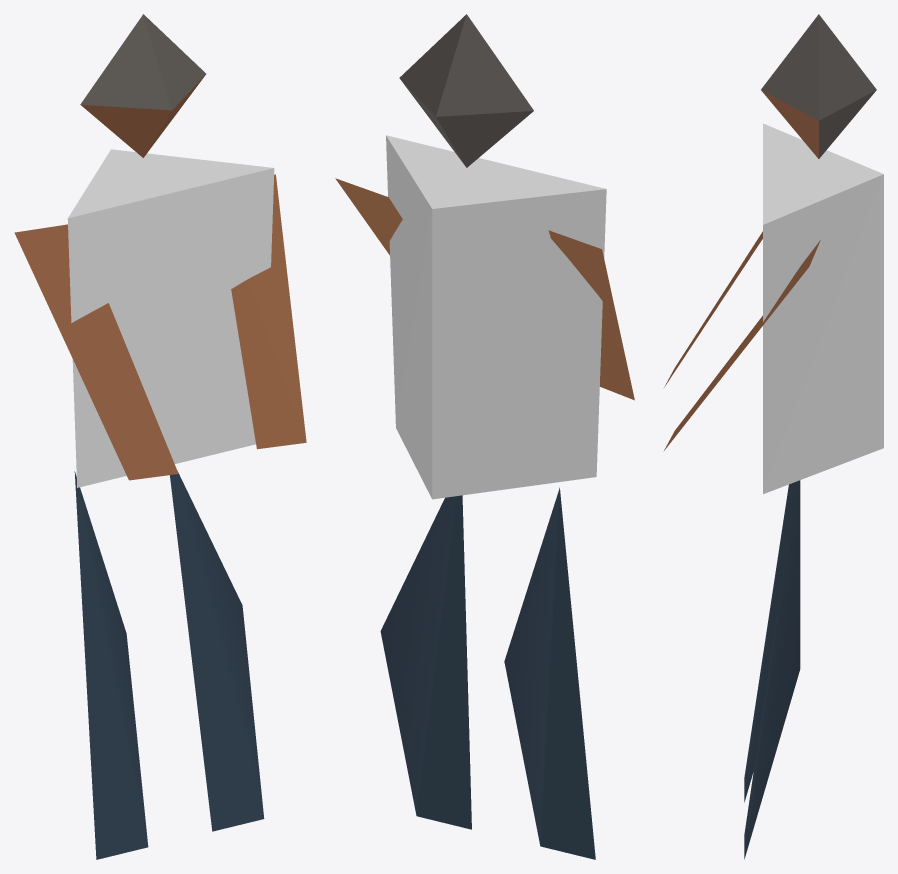
File: fan-12.glb
The picture shows the model from 3 angles, left to right: view 1: azimuth 30°, elevation 25°; view 2: azimuth 150°, elevation 25°; view 3: azimuth 270°, elevation 25°; orthographic projection. The views are drawn at different scales.
Visible parts, largest first — view 1: fan-12; view 2: fan-12; view 3: fan-12.
Boxes of the visible parts, box(x1,y1,x2,y2) form: fan-12: box(14, 14, 306, 859); fan-12: box(335, 14, 634, 859); fan-12: box(663, 14, 883, 859).
Size of the model in its own units: 0.64 by 1.91 by 0.475.
